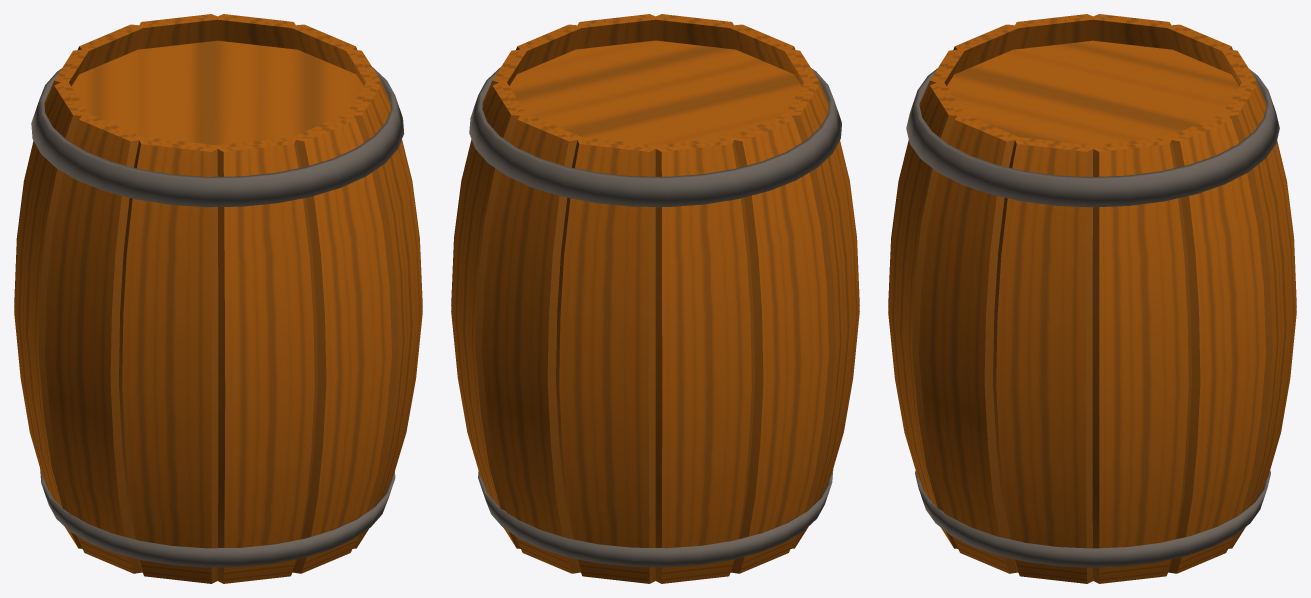
The model's file is barrel.obj.
The picture shows the model from 3 angles, left to right: view 1: azimuth 30°, elevation 25°; view 2: azimuth 150°, elevation 25°; view 3: azimuth 270°, elevation 25°; orthographic projection.
Visible parts, largest first — view 1: Cylinder, Cylinder.001; view 2: Cylinder, Cylinder.001; view 3: Cylinder, Cylinder.001.
Boxes of the visible parts, x1,y1,x2,y2 form: Cylinder: (14, 14, 422, 583); Cylinder.001: (31, 67, 404, 567); Cylinder: (451, 14, 859, 583); Cylinder.001: (469, 67, 841, 567); Cylinder: (888, 14, 1296, 583); Cylinder.001: (906, 68, 1279, 567).
Bounding box in the file's own units: 2.78 × 3.27 × 2.78.
Materials: 1 (1 with a texture image).
